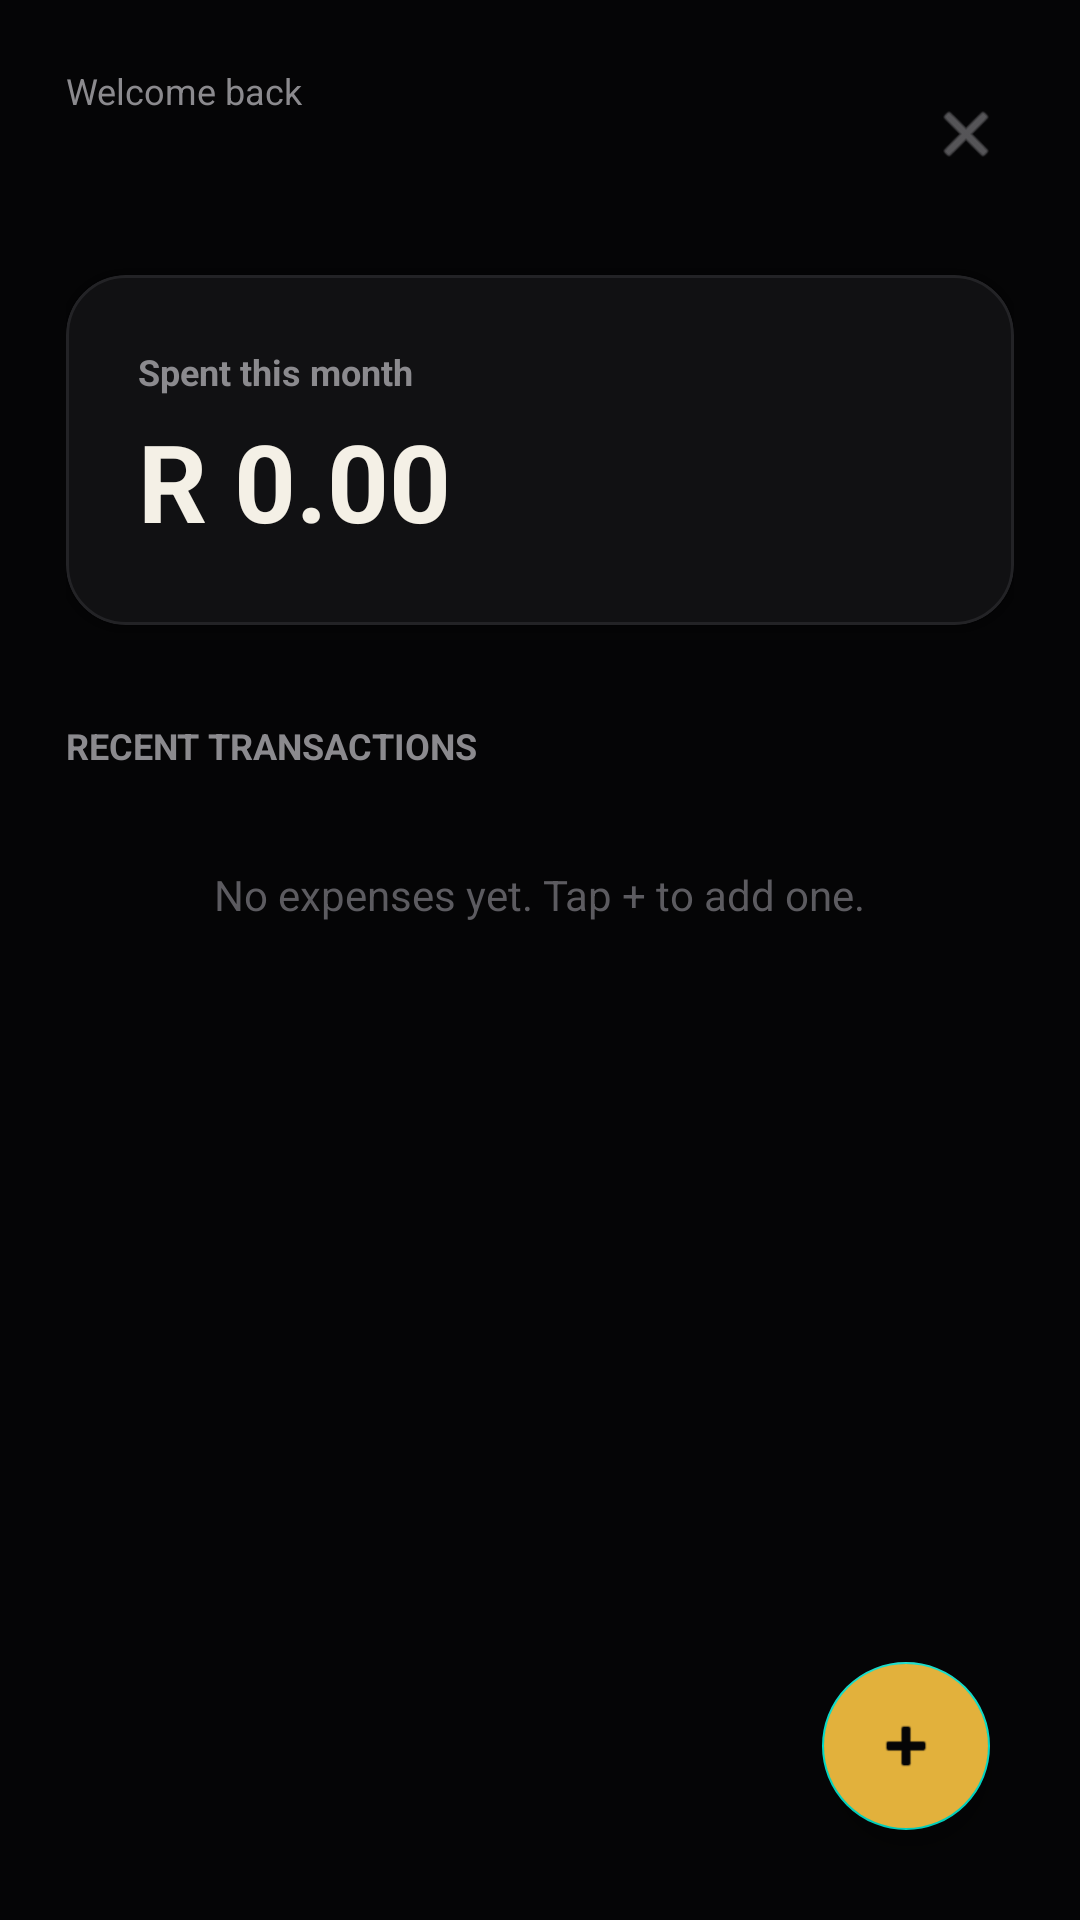

Where to tap for icons on this 1080px×1920px app screen, as [x,y]:
add: [906,1746]
close clear cancel: [966,134]
